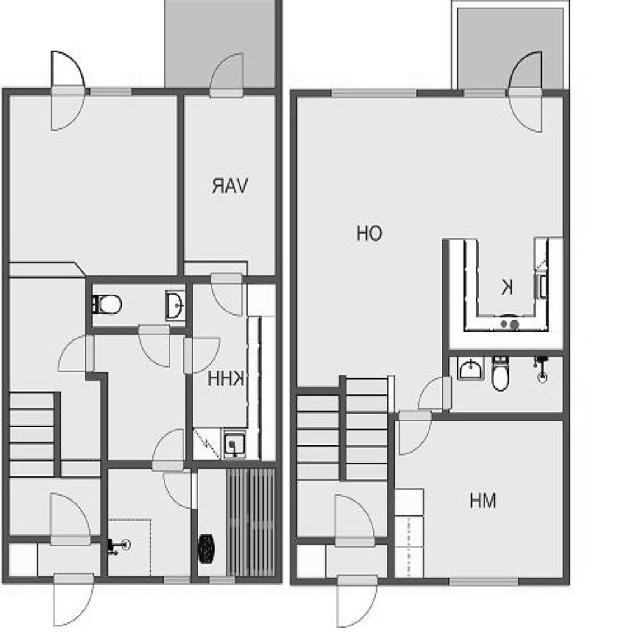door: (48, 39, 86, 140), (506, 48, 548, 138), (326, 486, 374, 548), (201, 45, 249, 105), (46, 569, 93, 629), (46, 477, 90, 539), (331, 572, 377, 630), (160, 464, 202, 515), (206, 274, 248, 322), (393, 407, 430, 457), (137, 326, 177, 370), (184, 335, 222, 380), (418, 377, 458, 418), (150, 424, 186, 469), (56, 334, 94, 376)
window: (318, 84, 418, 105), (444, 575, 526, 593), (456, 81, 505, 104), (84, 85, 132, 101), (208, 572, 238, 594), (155, 574, 194, 588)
zone: (292, 91, 446, 416), (7, 90, 182, 280), (445, 88, 562, 351), (387, 416, 566, 578), (177, 81, 279, 277), (188, 282, 277, 462), (189, 460, 281, 580), (104, 457, 193, 581), (445, 350, 567, 418), (87, 282, 188, 330)
